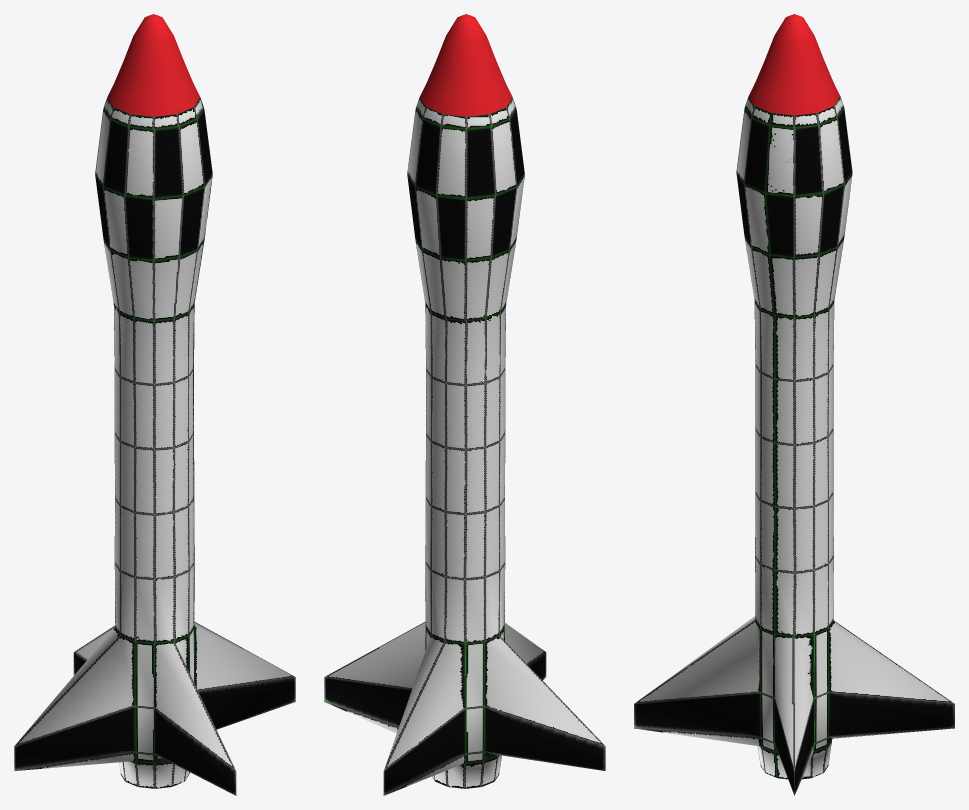
The model's file is missile.fbx.
3 renders of one model, left to right at view 1: azimuth 30°, elevation 25°; view 2: azimuth 150°, elevation 25°; view 3: azimuth 270°, elevation 25°, orthographic.
Visible parts, largest first — view 1: Missile; view 2: Missile; view 3: Missile.
Boxes of the visible parts, bbox=[...] form: Missile: bbox=[14, 14, 295, 795]; Missile: bbox=[324, 14, 605, 795]; Missile: bbox=[634, 14, 954, 795].
Size of the model in its own units: 40.96 by 106 by 40.95.
1 material, 1 textured.
